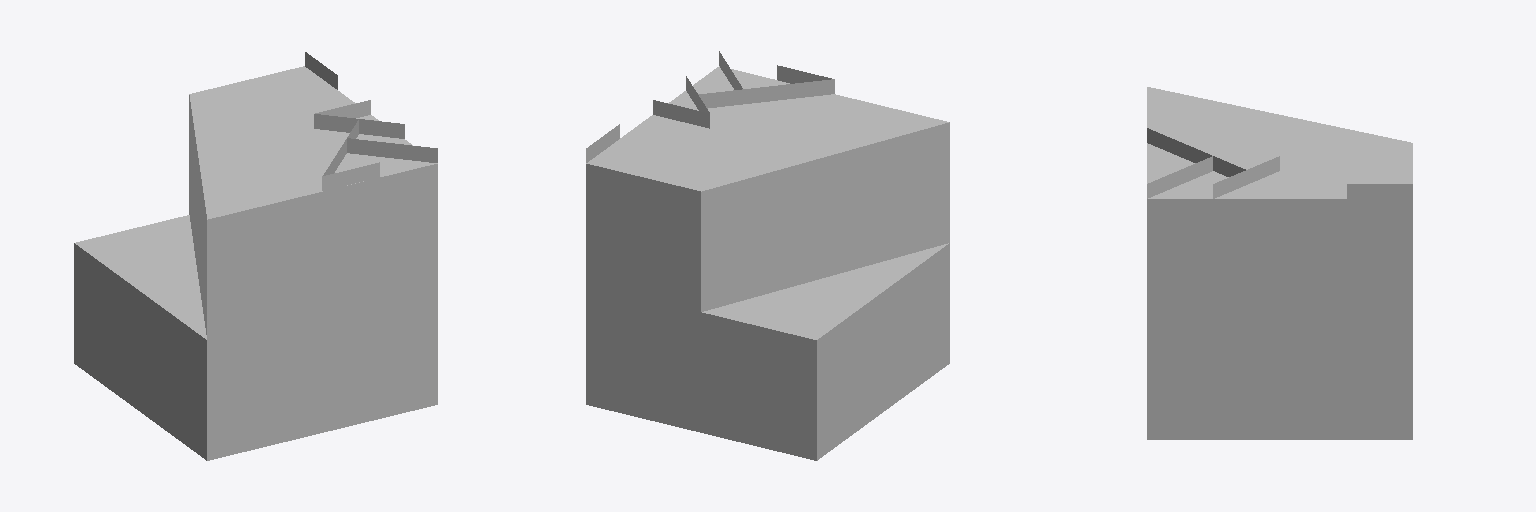
Rendered from blushrock_527r.obj.
3 renders of one model, left to right at view 1: azimuth 30°, elevation 25°; view 2: azimuth 150°, elevation 25°; view 3: azimuth 270°, elevation 25°, orthographic.
Size of the model in its own units: 1 by 1.06 by 1.